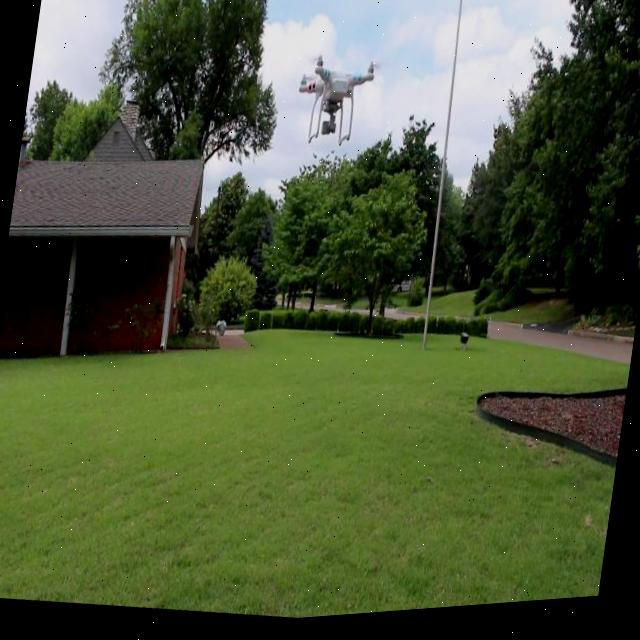drone: (288, 50, 382, 158)
